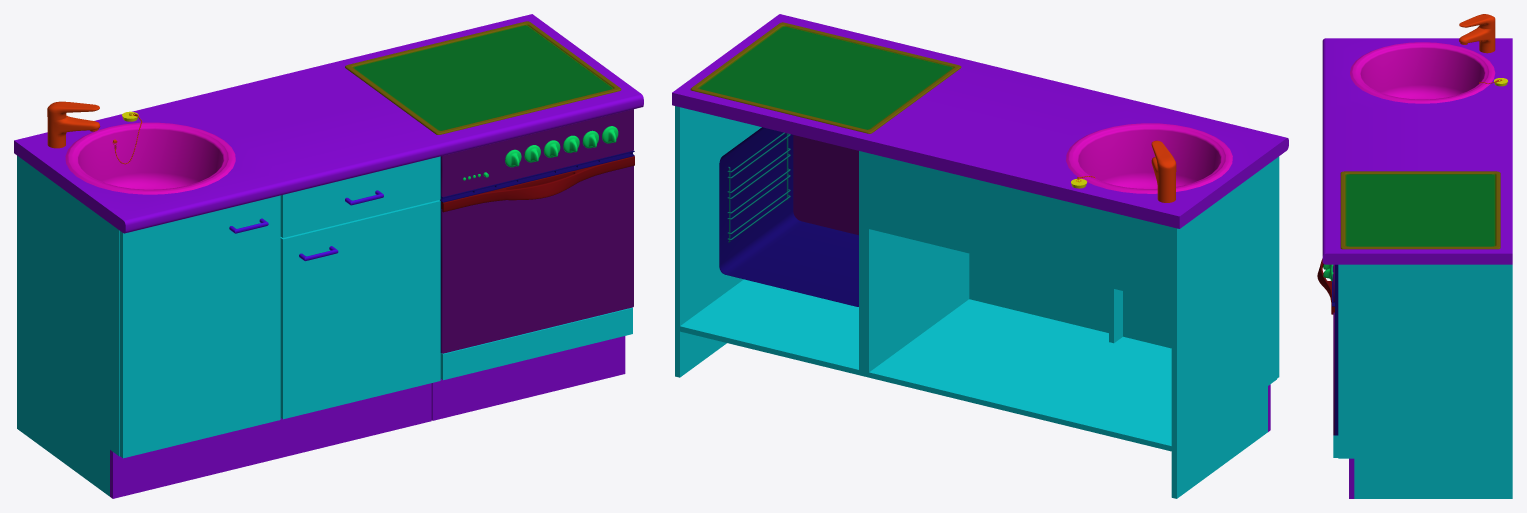
File: Small_Kitchen.fbx
The picture shows the model from 3 angles, left to right: view 1: azimuth 30°, elevation 25°; view 2: azimuth 150°, elevation 25°; view 3: azimuth 270°, elevation 25°; orthographic projection. The views are drawn at different scales.
Visible parts, largest first — view 1: #CAB0001_Kitchen_Wood_White_86x160x60; view 2: #CAB0001_Kitchen_Wood_White_86x160x60; view 3: #CAB0001_Kitchen_Wood_White_86x160x60.
Boxes of the visible parts, bbox=[...] form: #CAB0001_Kitchen_Wood_White_86x160x60: bbox=[14, 14, 643, 498]; #CAB0001_Kitchen_Wood_White_86x160x60: bbox=[672, 14, 1288, 498]; #CAB0001_Kitchen_Wood_White_86x160x60: bbox=[1317, 14, 1512, 498].
Bounding box in the file's own units: 1.61 × 0.9825 × 0.6161.
